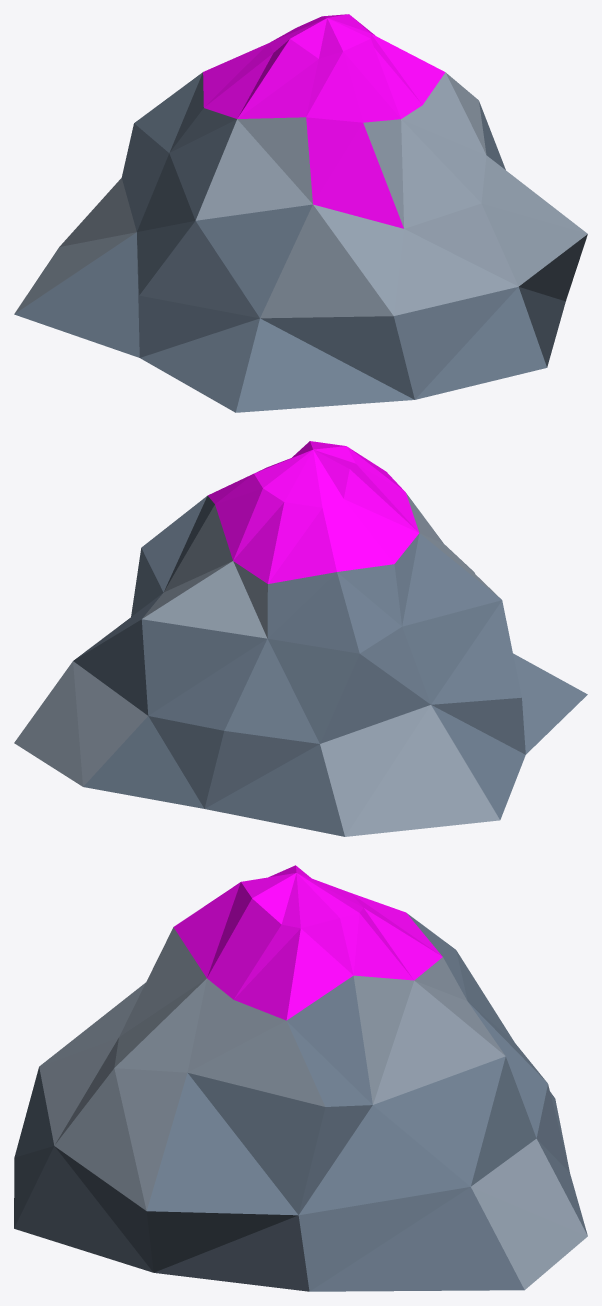
The model's file is SM_Mountain_A.fbx.
The picture shows the model from 3 angles, top to bottom: view 1: azimuth 30°, elevation 25°; view 2: azimuth 150°, elevation 25°; view 3: azimuth 270°, elevation 25°; orthographic projection. The views are drawn at different scales.
Parts seen in each view (by area): view 1: SM_Mountain_A; view 2: SM_Mountain_A; view 3: SM_Mountain_A.
Boxes of the visible parts, <box> form: SM_Mountain_A: <box>14,14,587,412</box>; SM_Mountain_A: <box>14,441,587,836</box>; SM_Mountain_A: <box>14,865,587,1291</box>.
Bounding box in the file's own units: 34.77 × 20 × 33.94.
